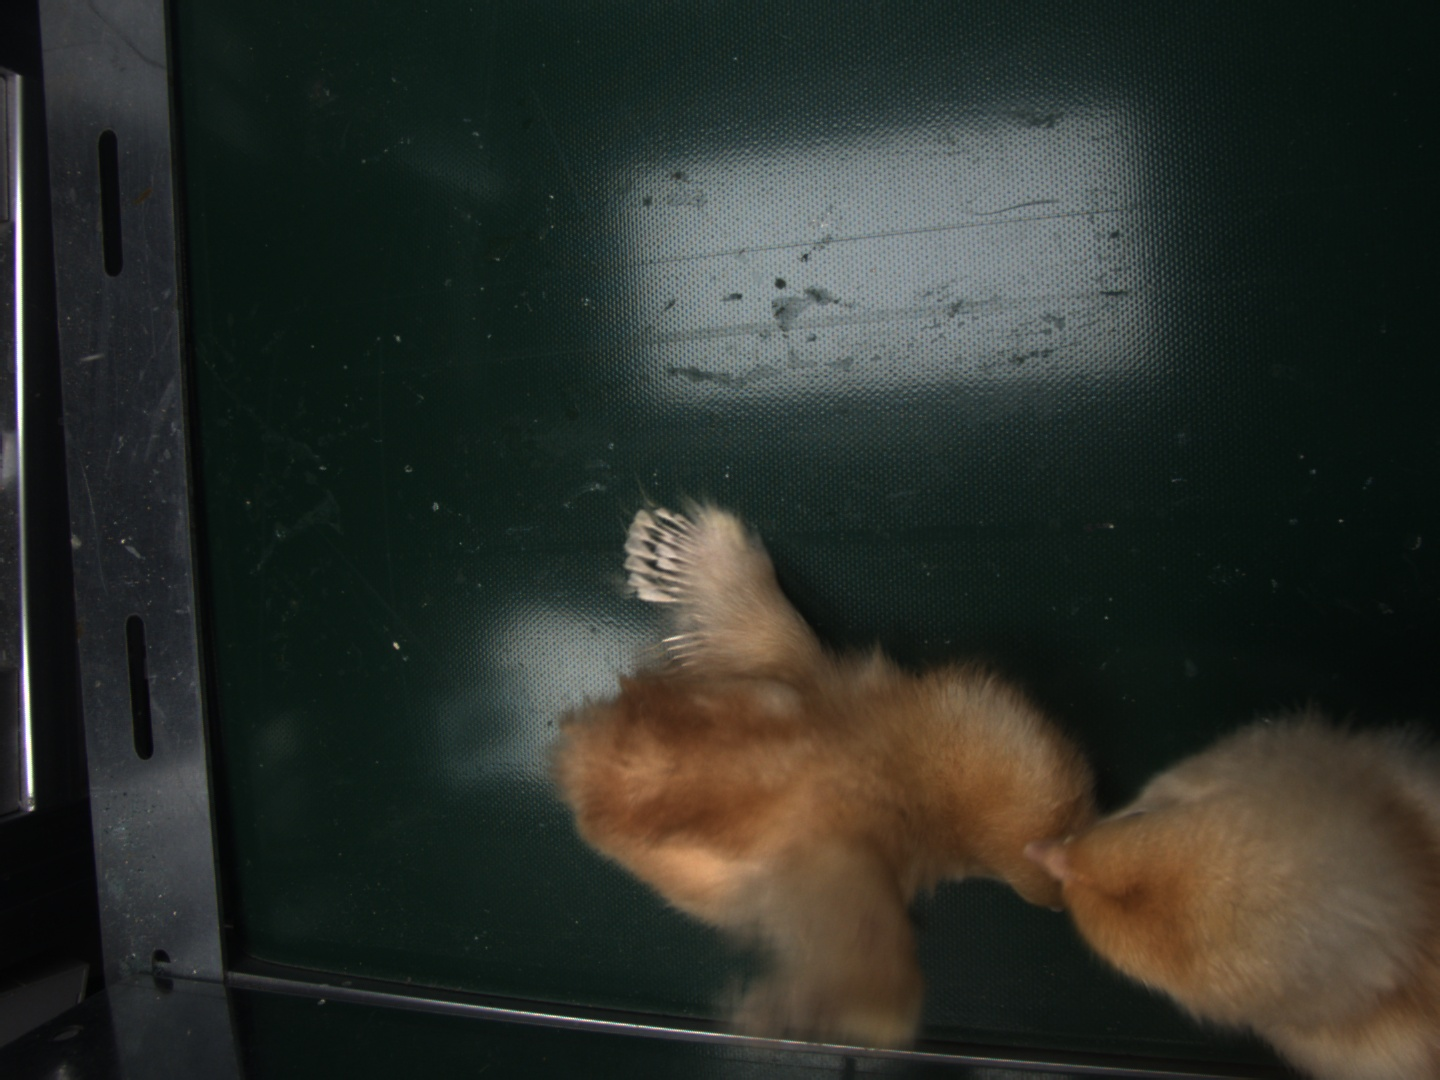female: (626, 513, 705, 604)
